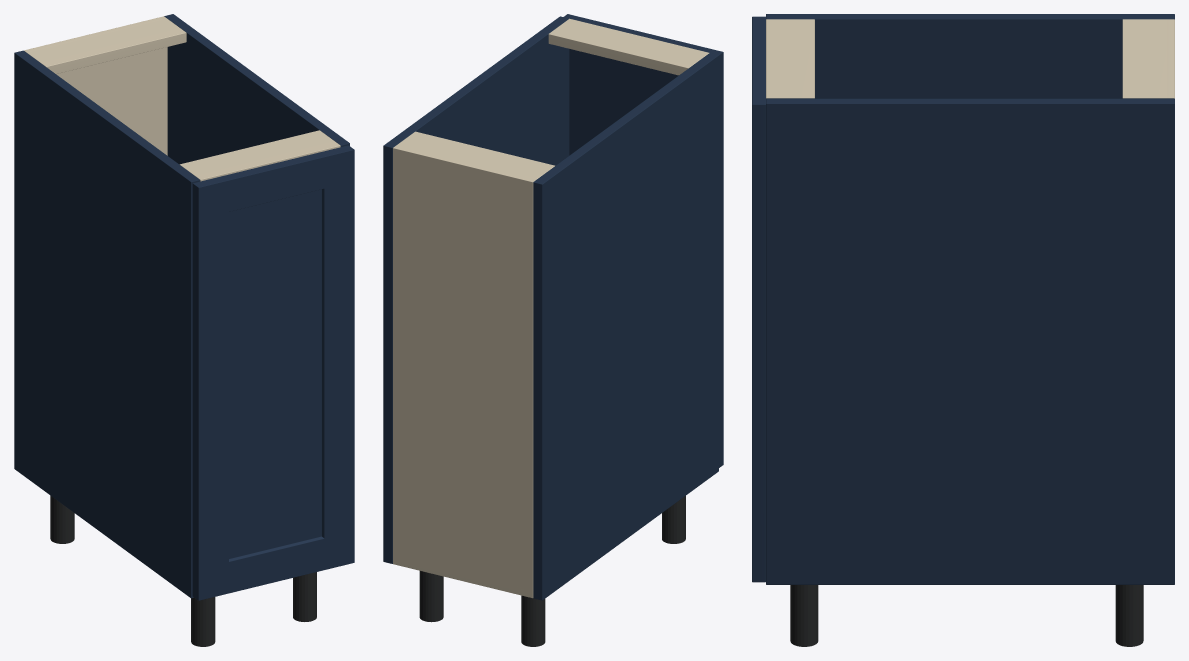
The model's file is oppein-ply-bss-bsr12.glb.
3 views of the same model, side by side, from view 1: azimuth 30°, elevation 25°; view 2: azimuth 150°, elevation 25°; view 3: azimuth 270°, elevation 25° (orthographic). The views are drawn at different scales.
Parts seen in each view (by area): view 1: Cabinet side, Door, Cabinet side.001, Cabinet back, Top support rail, Top support rail.001, Adjustable foot.001, Adjustable foot.003, Adjustable foot; view 2: Cabinet side, Cabinet back, Cabinet side.001, Door, Top support rail.001, Top support rail, Adjustable foot, Adjustable foot.002, Adjustable foot.001, Cabinet bottom; view 3: Cabinet side.001, Cabinet side, Door, Top support rail.001, Top support rail, Adjustable foot.002, Adjustable foot.003, Cabinet back.
Part boxes in pixels (x1,y1,x2,y2): Cabinet side: (14, 50, 200, 598); Door: (192, 145, 354, 600); Cabinet side.001: (164, 14, 349, 164); Cabinet back: (24, 16, 167, 155); Top support rail: (25, 18, 186, 73); Top support rail.001: (179, 130, 340, 181); Adjustable foot.001: (191, 597, 215, 646); Adjustable foot.003: (293, 572, 316, 621); Adjustable foot: (50, 495, 74, 543); Cabinet side: (533, 53, 718, 600); Cabinet back: (393, 145, 535, 598); Cabinet side.001: (383, 16, 569, 563); Door: (563, 14, 723, 467); Top support rail.001: (548, 18, 709, 75); Top support rail: (396, 131, 554, 179); Adjustable foot: (521, 595, 545, 646); Adjustable foot.002: (419, 571, 443, 622); Adjustable foot.001: (662, 496, 685, 543); Cabinet bottom: (393, 562, 533, 597); Cabinet side.001: (766, 98, 1174, 584); Cabinet side: (766, 14, 1174, 98); Door: (752, 16, 765, 582); Top support rail.001: (766, 19, 814, 98); Top support rail: (1122, 19, 1166, 98); Adjustable foot.002: (1115, 585, 1143, 646); Adjustable foot.003: (790, 585, 818, 646); Cabinet back: (1167, 19, 1174, 98).
Bounding box in the file's own units: 0.3048 × 0.8763 × 0.6064.
